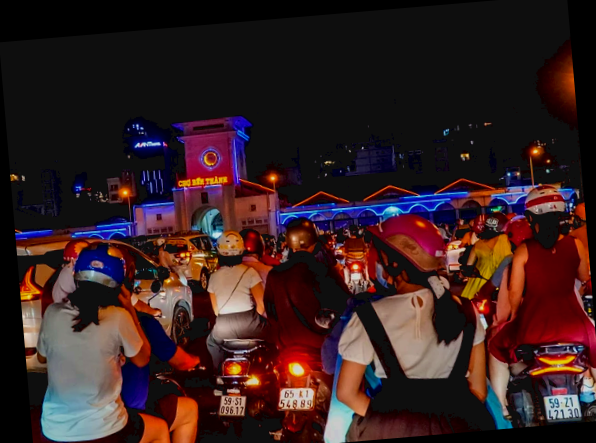Bien-so: (233, 363, 274, 392), (497, 411, 534, 439), (174, 363, 203, 385), (325, 261, 337, 270)
